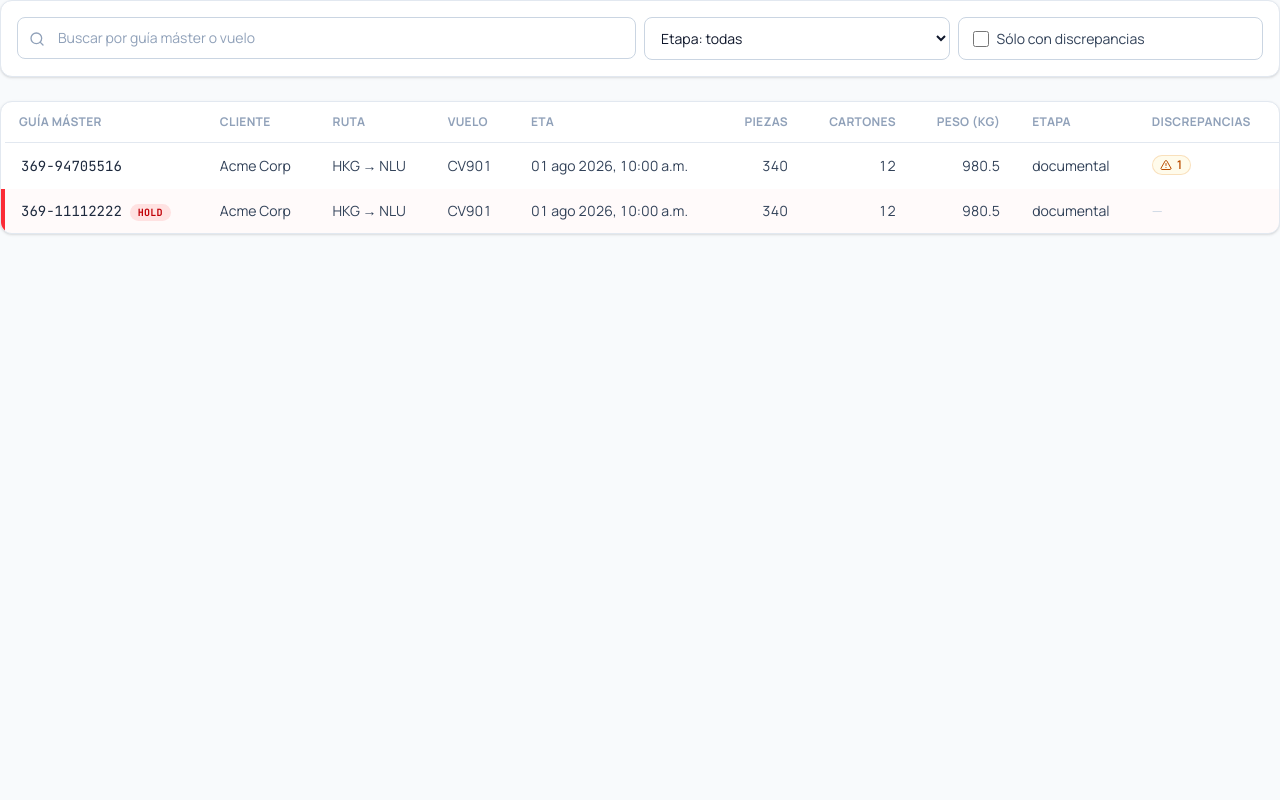
Scenario: PrealertasView › opens the detail modal showing state axes, English semáforo, and declared vs observed flight
Click the text "369-94705516". click: (103, 166)
box: [3,142,204,188]
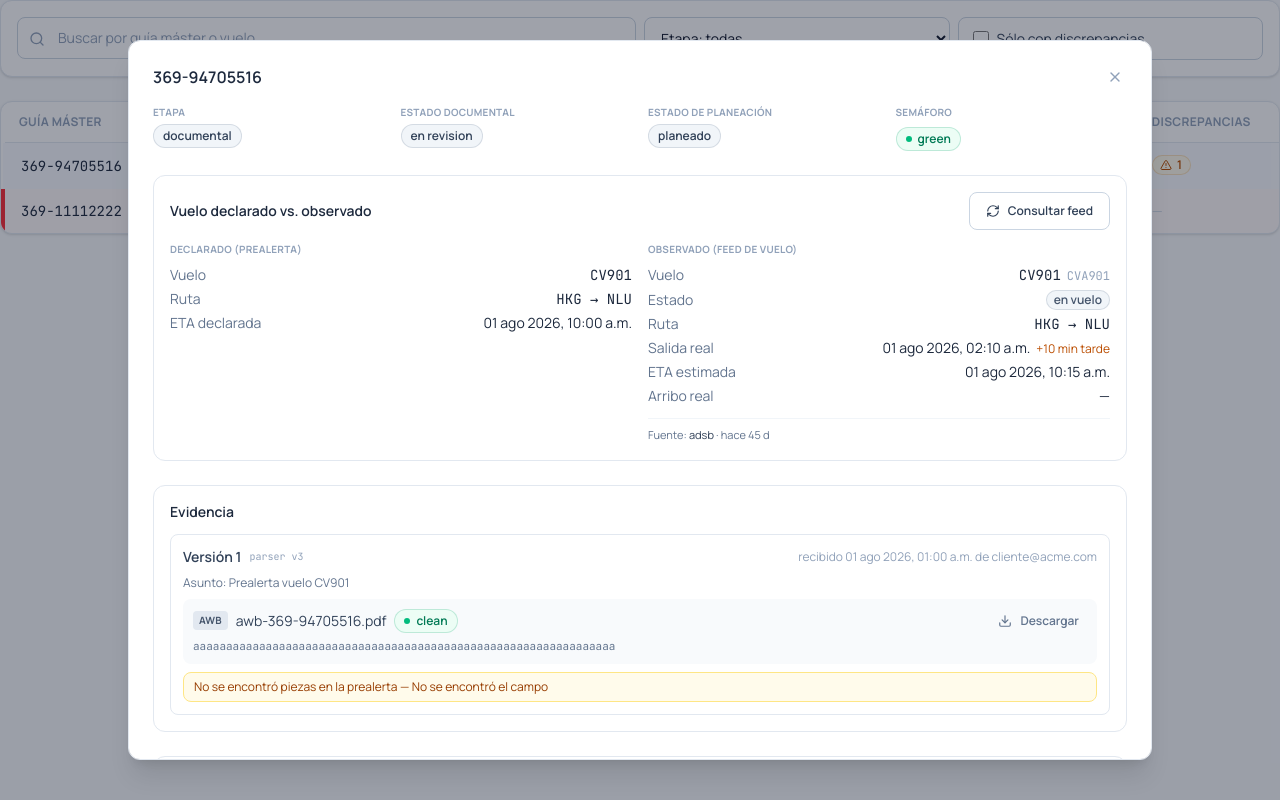
Result: the heading "Vuelo declarado vs. observado" is shown at [170,201,372,221]
Result: the text "green" is shown at [896,127,961,151]
Result: the text "Declarado (prealerta)" is shown at [170,242,302,256]
